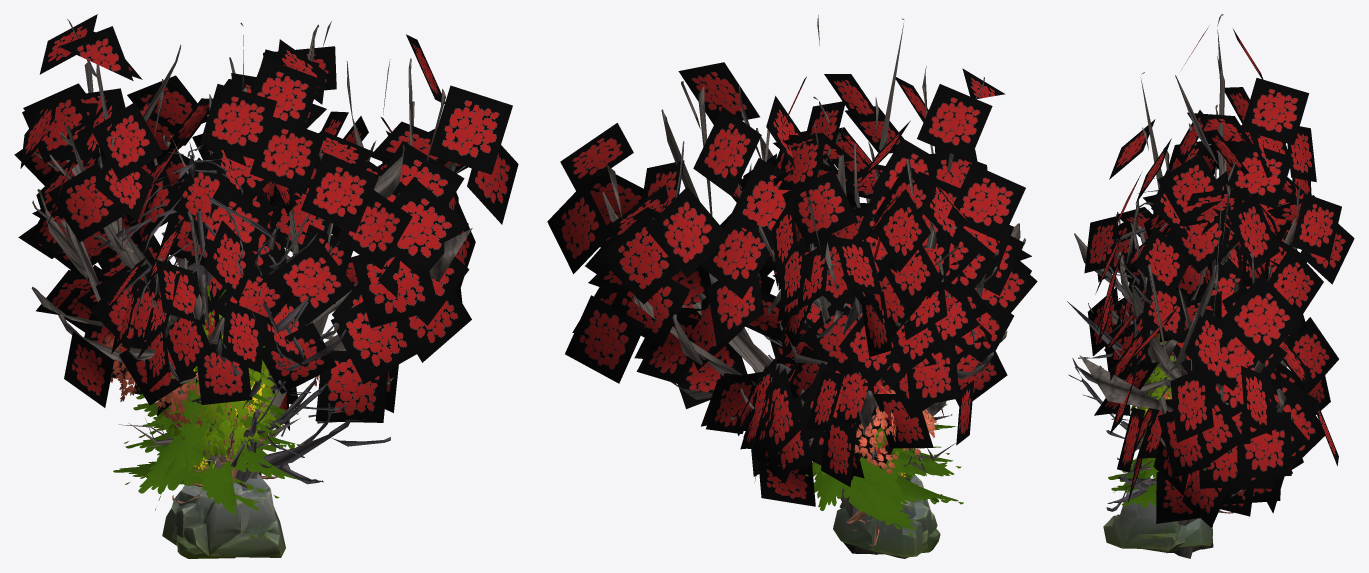
File: nature_lod.glb
3 views of the same model, side by side, from view 1: azimuth 30°, elevation 25°; view 2: azimuth 150°, elevation 25°; view 3: azimuth 270°, elevation 25° (orthographic). The views are drawn at different scales.
Parts seen in each view (by area): view 1: TwistedTree_2, TwistedTree_3, TwistedTree_1, Rock_Medium_3, Pine_5, DeadTree_2, DeadTree_3, Rock_Medium_1, Pine_2, Pine_4, DeadTree_1, CommonTree_3 (+7 smaller); view 2: TwistedTree_1, TwistedTree_2, TwistedTree_3, Pine_5, Rock_Medium_2, MapleTree_3, Pine_2, Pine_4, Rock_Medium_3; view 3: TwistedTree_1, TwistedTree_3, TwistedTree_2, Rock_Medium_3, DeadTree_2, Rock_Medium_2, Pine_5, DeadTree_3.
Boxes of the visible parts, box(x1,y1,x2,y2) form: TwistedTree_2: box(14, 14, 331, 469); TwistedTree_3: box(95, 39, 412, 466); TwistedTree_1: box(174, 24, 518, 478); Rock_Medium_3: box(176, 473, 285, 558); Pine_5: box(113, 292, 299, 510); DeadTree_2: box(169, 225, 390, 484); DeadTree_3: box(91, 142, 305, 465); Rock_Medium_1: box(172, 483, 249, 556); Pine_2: box(125, 376, 295, 515); Pine_4: box(124, 285, 298, 503); DeadTree_1: box(144, 290, 346, 457); CommonTree_3: box(178, 325, 273, 456); TwistedTree_1: box(547, 62, 909, 558); TwistedTree_2: box(758, 15, 1037, 480); TwistedTree_3: box(701, 74, 1031, 506); Pine_5: box(805, 365, 958, 530); Rock_Medium_2: box(833, 500, 927, 557); MapleTree_3: box(854, 383, 955, 476); Pine_2: box(814, 410, 963, 536); Pine_4: box(858, 404, 961, 545); Rock_Medium_3: box(839, 498, 940, 553); TwistedTree_1: box(1079, 184, 1338, 549); TwistedTree_3: box(1074, 129, 1354, 558); TwistedTree_2: box(1097, 14, 1316, 555); Rock_Medium_3: box(1103, 489, 1181, 549); DeadTree_2: box(1067, 255, 1186, 511); Rock_Medium_2: box(1178, 518, 1212, 547); Pine_5: box(1111, 378, 1161, 508); DeadTree_3: box(1090, 178, 1195, 553).
Bounding box in the file's own units: 17.01 × 17.9 × 9.84.
14 materials, 14 textured.
